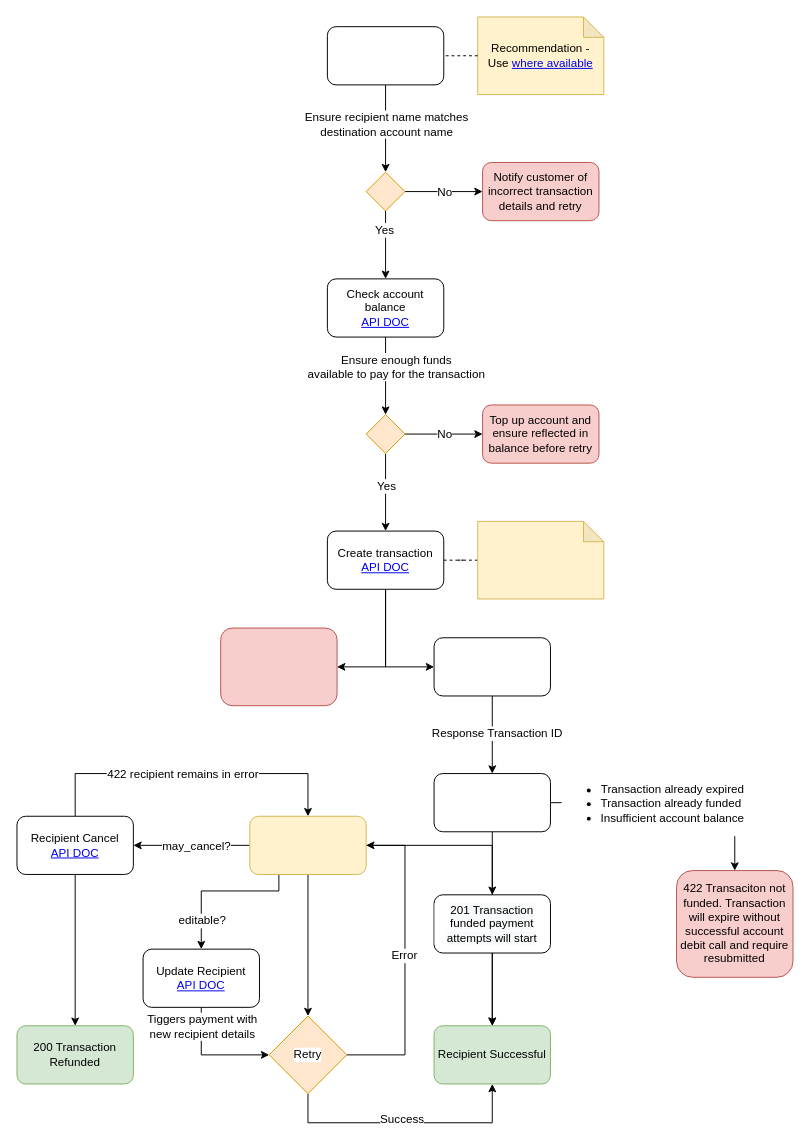
Some shapes in this 810 by 1148 pixel diagram are drawn without their labels. The box of each missing label's shape, as (x1, y1, x2, y2) in pixels:
201 Transaction created: (433, 637, 550, 696)
422 Response -Transaction not created check for errors in the response: (220, 627, 337, 706)
Create account debit to fund the transaction API DOC: (433, 773, 550, 832)
Recipient account details verified API DOC: (326, 26, 444, 85)
Recipient Error: (249, 815, 366, 874)
Recommendation - sender management using your ids: (477, 520, 604, 599)
